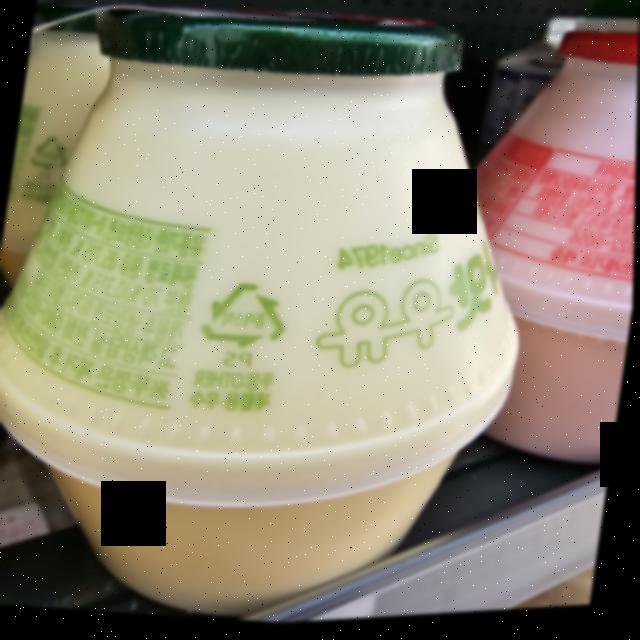Plastic: (200, 276, 298, 359)
